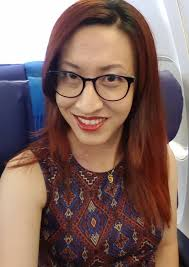Glasses: (40, 60, 136, 105)
